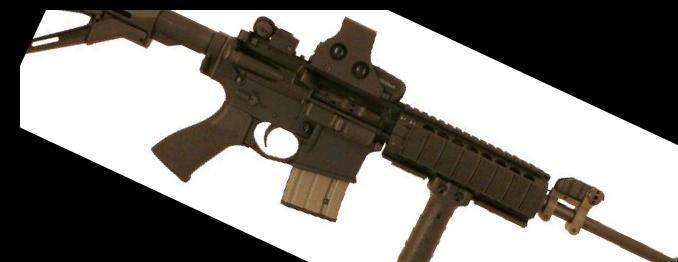larga: (25, 9, 678, 262)
